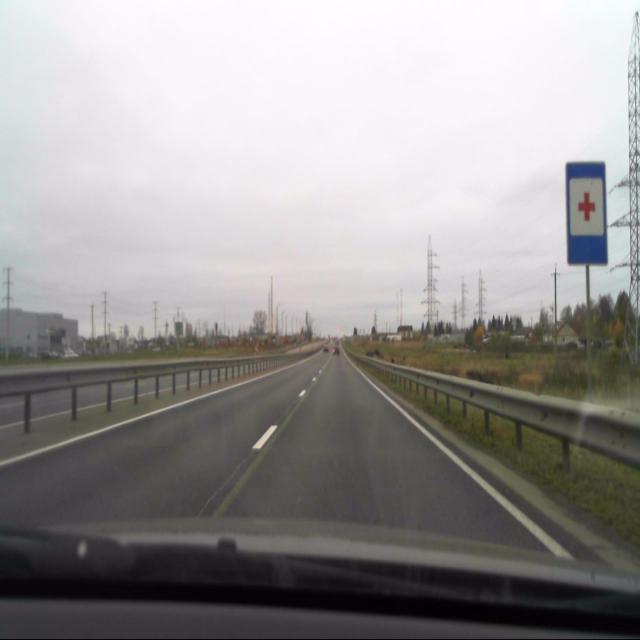road sign: (566, 161, 606, 269), (586, 267, 592, 402)
